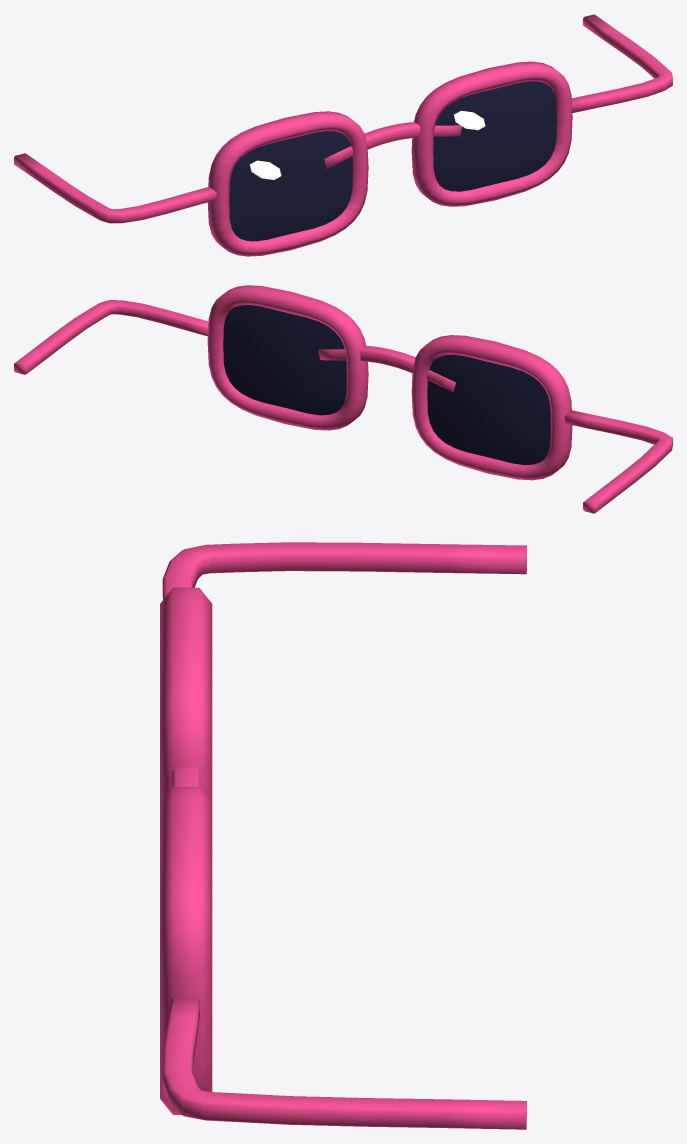
File: sunglasses-monkey.glb
3 renders of one model, top to bottom at view 1: azimuth 30°, elevation 25°; view 2: azimuth 150°, elevation 25°; view 3: azimuth 270°, elevation 25°, orthographic. The views are drawn at different scales.
Visible parts, largest first — view 1: lens, lens.001, rim, rim.001, temple.001, temple, bridge, shine.001, shine; view 2: lens, lens.001, rim, rim.001, temple, temple.001, bridge; view 3: temple, rim, temple.001, rim.001.
Part boxes in pixels (left/top/right/bottom): lens: left=433, top=81, right=556, bottom=191; lens.001: left=229, top=131, right=352, bottom=241; rim: left=411, top=61, right=572, bottom=206; rim.001: left=207, top=111, right=368, bottom=256; temple.001: left=14, top=153, right=216, bottom=223; temple: left=571, top=14, right=672, bottom=112; bridge: left=324, top=122, right=461, bottom=168; shine.001: left=249, top=160, right=281, bottom=179; shine: left=454, top=110, right=485, bottom=130; lens: left=223, top=305, right=346, bottom=415; lens.001: left=427, top=354, right=550, bottom=464; rim: left=207, top=285, right=368, bottom=430; rim.001: left=411, top=335, right=572, bottom=480; temple: left=14, top=300, right=208, bottom=374; temple.001: left=564, top=410, right=672, bottom=513; bridge: left=318, top=345, right=455, bottom=392; temple: left=162, top=997, right=526, bottom=1129; rim: left=160, top=786, right=212, bottom=1114; temple.001: left=162, top=542, right=526, bottom=599; rim.001: left=160, top=587, right=212, bottom=802.
Size of the model in its own units: 1.33 by 0.2784 by 0.3633.
